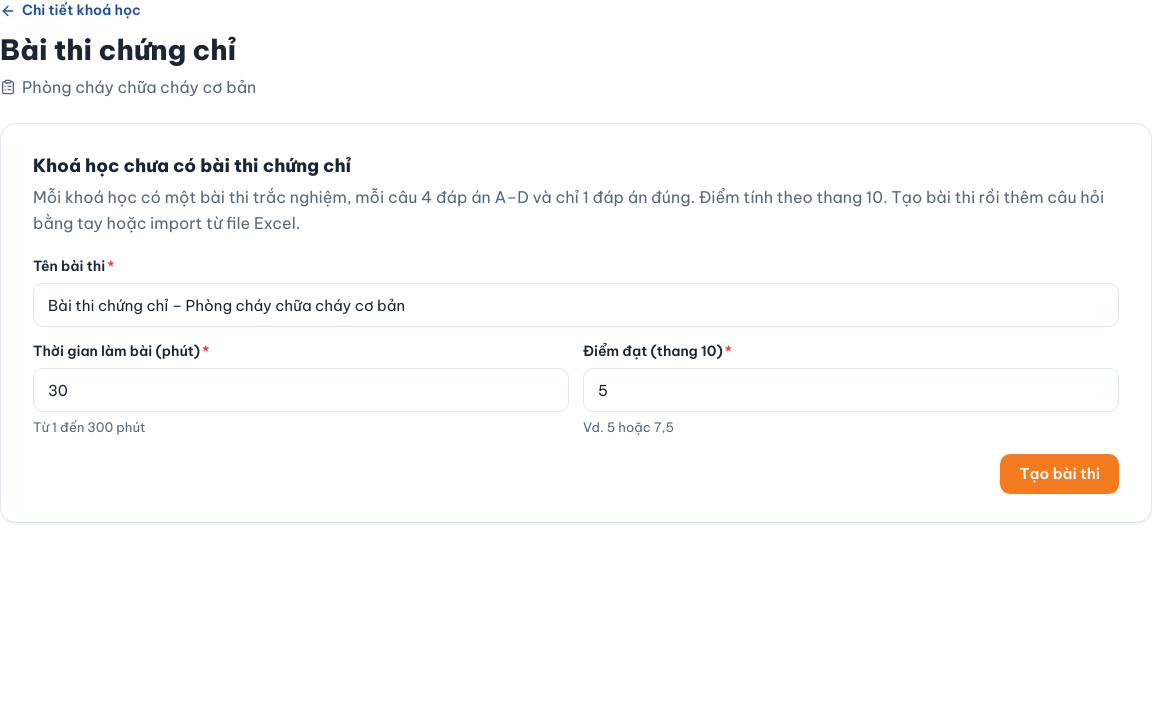
ExamPage (bài thi chứng chỉ) › creates the exam of a course that has none
Expected: the heading "Khoá học chưa có bài thi chứng chỉ" is shown, [33,154,351,177]
Replace the text in the field labelled "Điểm đạt (thang 10)*" with "7,5" at [851, 390], box [583,368,1119,412]
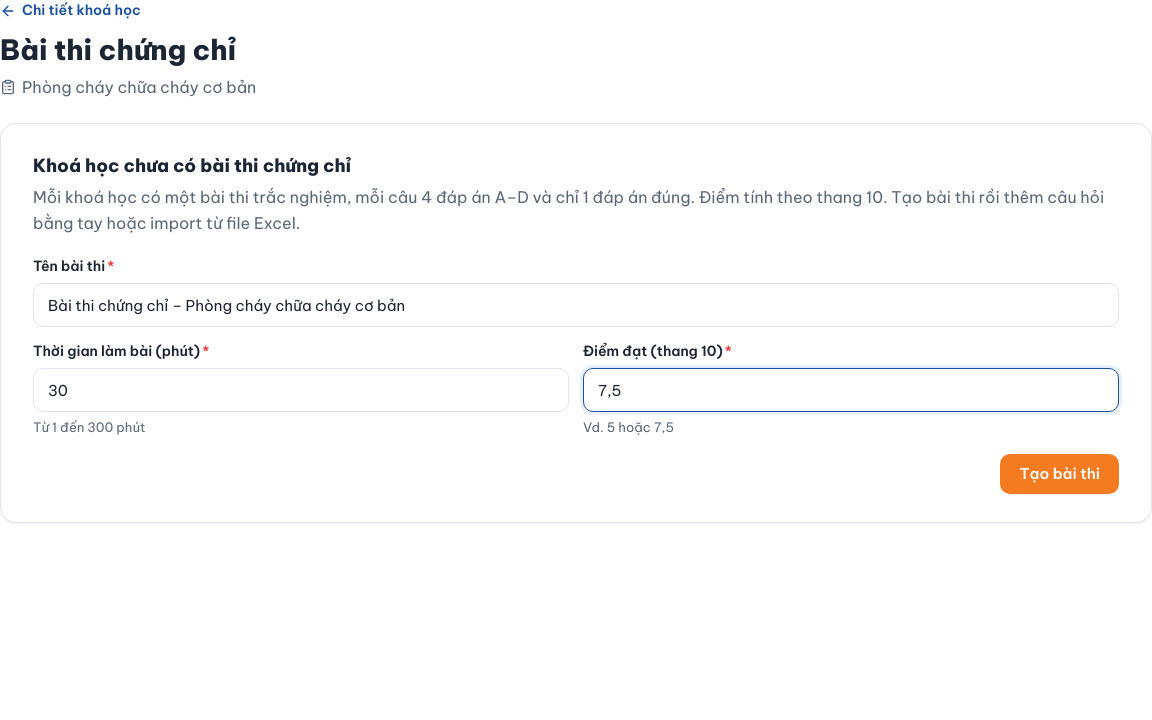
Click the button "Tạo bài thi".
click(1060, 474)  # box [1000,454,1119,494]
(page scrolled)
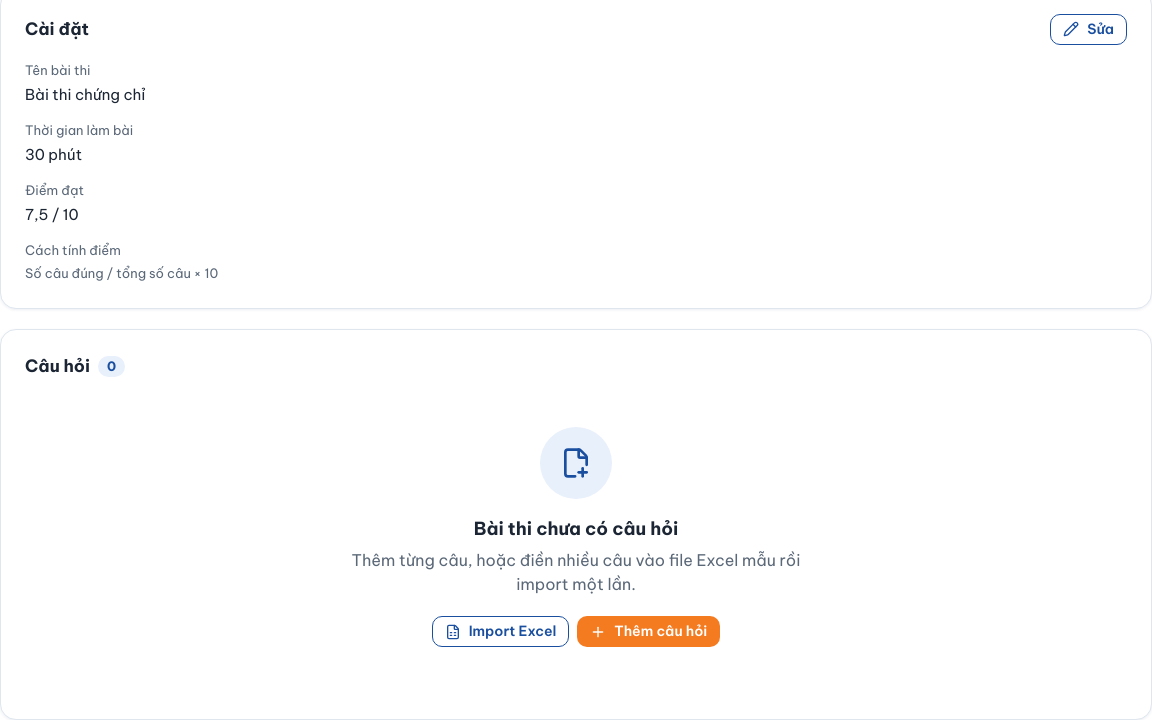
Expected: the text "Bài thi chưa có câu hỏi" is shown, [474,515,678,542]
